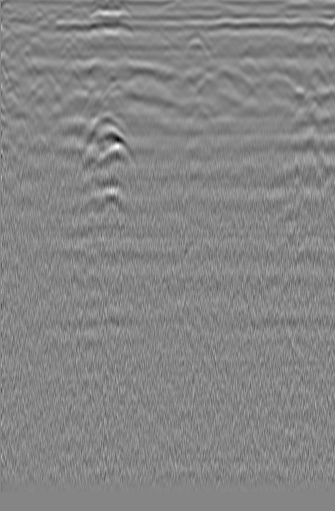가스: (86, 129, 131, 176)
상수: (1, 25, 39, 65)
오수: (294, 24, 328, 57)
우수: (136, 26, 182, 59)
